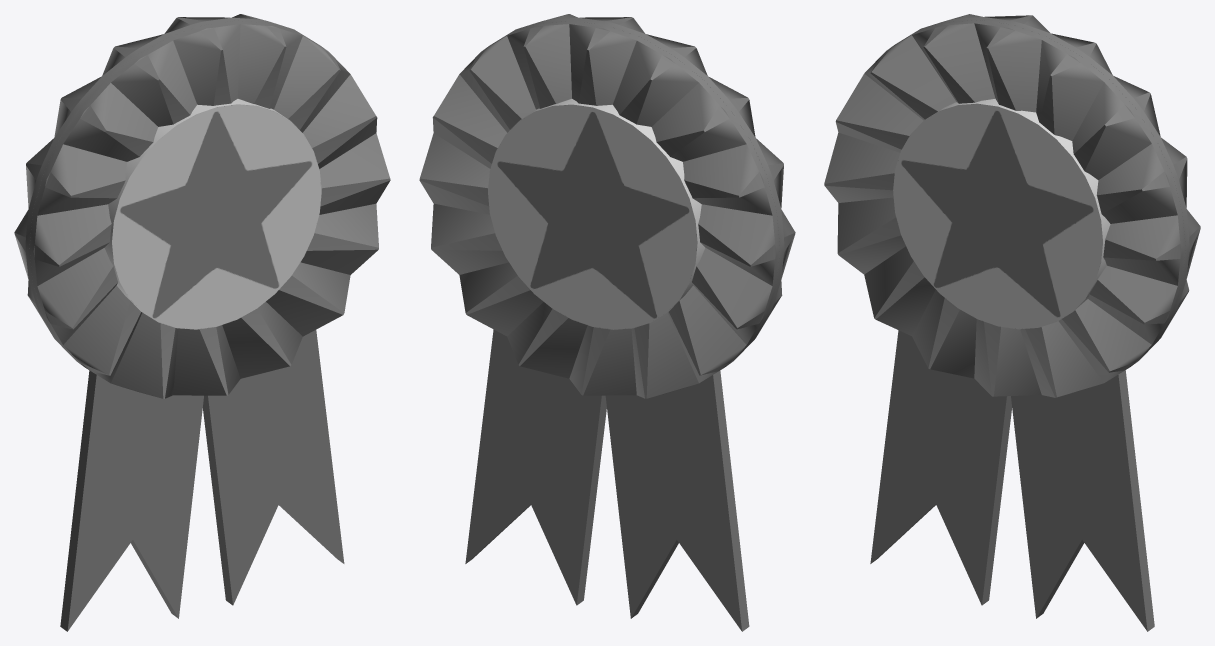
File: goalOff.obj
3 renders of one model, left to right at view 1: azimuth 30°, elevation 25°; view 2: azimuth 150°, elevation 25°; view 3: azimuth 330°, elevation 25°, orthographic.
Visible parts, largest first — view 1: 円柱.001; view 2: 円柱.001; view 3: 円柱.001.
Boxes of the visible parts, x1,y1,x2,y2 form: 円柱.001: [14, 14, 390, 631]; 円柱.001: [419, 14, 795, 631]; 円柱.001: [824, 14, 1200, 631].
Size of the model in its own units: 2 by 3.23 by 0.4487.
Materials: 3 (3 with a texture image).
